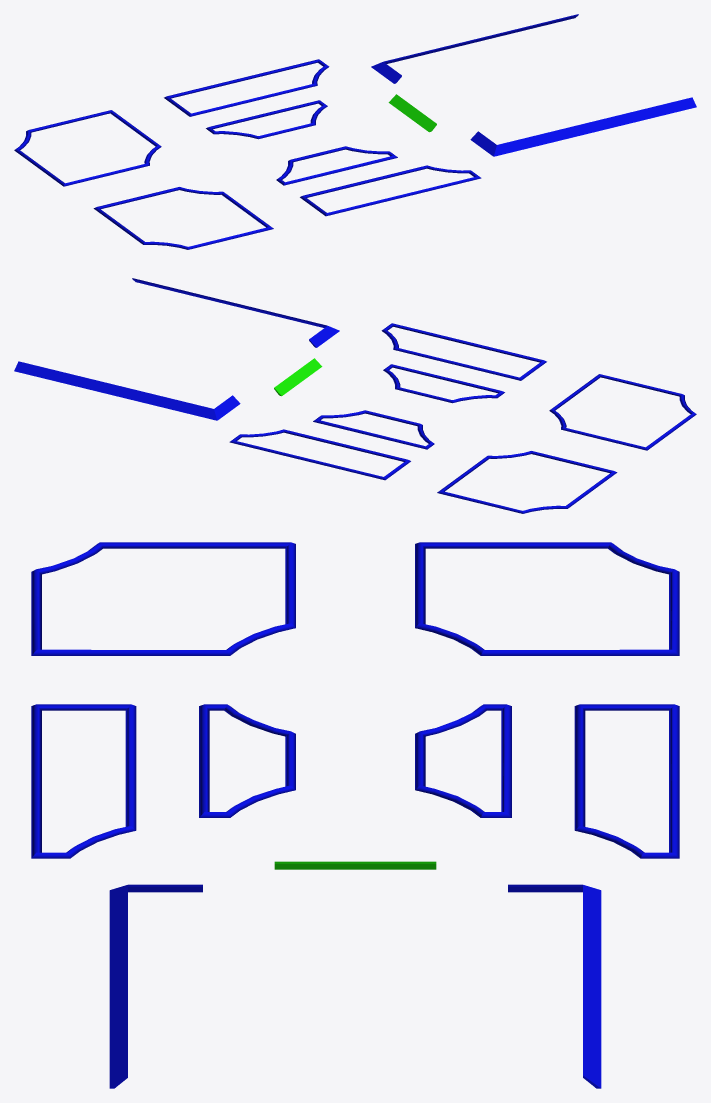
File: church_collisionHelpers.fbx
3 views of the same model, one above another, from view 1: azimuth 30°, elevation 25°; view 2: azimuth 150°, elevation 25°; view 3: azimuth 270°, elevation 25° (orthographic). The views are drawn at different scales.
Parts seen in each view (by area): view 1: collisionConvex.466, collisionConvex.431, collisionConvex.430, collisionConvex.400, collisionConvex.435, collisionConvex.443, collisionConvex.408, collisionConvex.437, collisionConvex.402; view 2: collisionConvex.431, collisionConvex.466, collisionConvex.430, collisionConvex.435, collisionConvex.400, collisionConvex.408, collisionConvex.443, collisionConvex.402, collisionConvex.437; view 3: collisionConvex.431, collisionConvex.466, collisionConvex.400, collisionConvex.435, collisionConvex.430, collisionConvex.408, collisionConvex.443, collisionConvex.419, collisionConvex.454, collisionConvex.418, collisionConvex.453, collisionConvex.402 (+5 smaller).
Boxes of the visible parts, left/top/right/bottom form: collisionConvex.466: left=494, top=97, right=696, bottom=156; collisionConvex.431: left=383, top=14, right=578, bottom=63; collisionConvex.430: left=388, top=94, right=436, bottom=132; collisionConvex.400: left=167, top=59, right=318, bottom=98; collisionConvex.435: left=326, top=176, right=481, bottom=216; collisionConvex.443: left=303, top=165, right=426, bottom=197; collisionConvex.408: left=190, top=83, right=317, bottom=116; collisionConvex.437: left=284, top=155, right=397, bottom=185; collisionConvex.402: left=209, top=100, right=318, bottom=128; collisionConvex.431: left=14, top=361, right=216, bottom=420; collisionConvex.466: left=132, top=278, right=327, bottom=327; collisionConvex.430: left=274, top=358, right=322, bottom=396; collisionConvex.435: left=392, top=323, right=543, bottom=362; collisionConvex.400: left=229, top=440, right=384, bottom=480; collisionConvex.408: left=284, top=429, right=407, bottom=461; collisionConvex.443: left=393, top=347, right=520, bottom=380; collisionConvex.402: left=313, top=419, right=426, bottom=449; collisionConvex.437: left=392, top=364, right=501, bottom=392; collisionConvex.431: left=583, top=885, right=601, bottom=1088; collisionConvex.466: left=109, top=885, right=127, bottom=1088; collisionConvex.400: left=669, top=704, right=679, bottom=857; collisionConvex.435: left=31, top=704, right=41, bottom=857; collisionConvex.430: left=274, top=861, right=436, bottom=869; collisionConvex.408: left=574, top=704, right=585, bottom=830; collisionConvex.443: left=125, top=704, right=136, bottom=830; collisionConvex.419: left=420, top=542, right=610, bottom=548; collisionConvex.454: left=100, top=542, right=290, bottom=548; collisionConvex.418: left=481, top=649, right=679, bottom=655; collisionConvex.453: left=31, top=649, right=229, bottom=655; collisionConvex.402: left=501, top=704, right=511, bottom=817.
Size of the model in its own units: 10061 by 116 by 5071.
